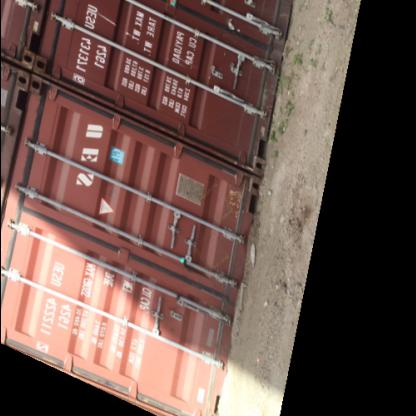Damage: (206, 91, 264, 251)
